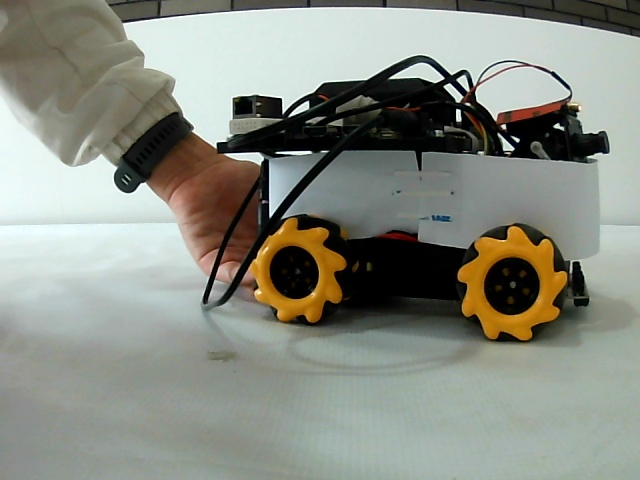car: (223, 81, 587, 325)
paper: (268, 157, 576, 227)
